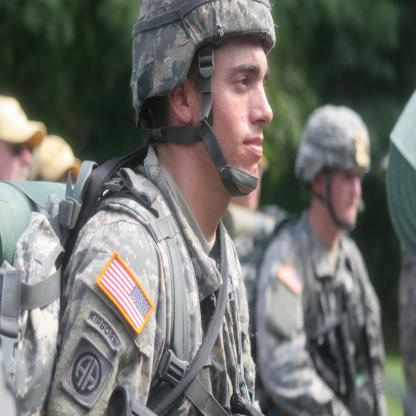Helmet: (128, 0, 281, 199), (297, 104, 374, 241)
